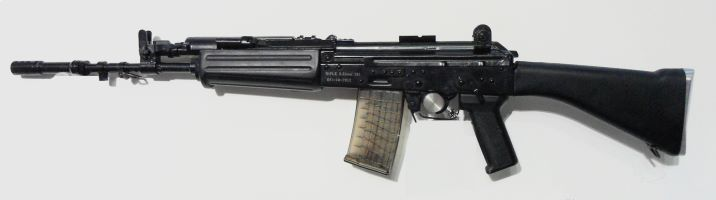rifle: (14, 21, 689, 200)
